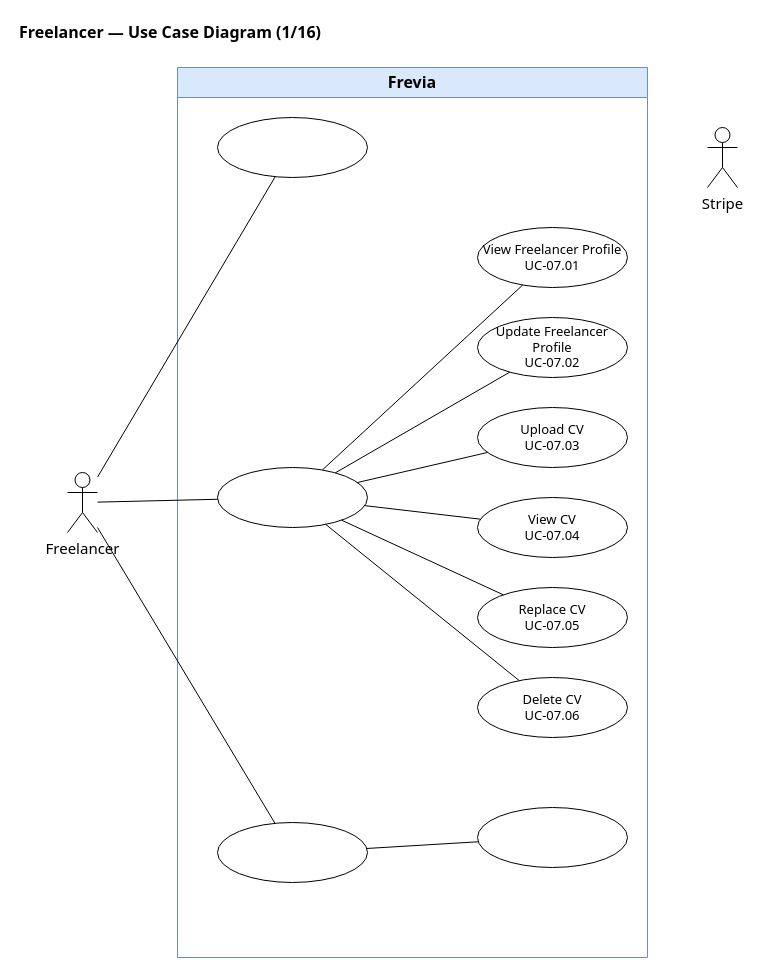
The diagram is 760 pixels wide and 975 high, and some of its shapes have lost their labels. Here are the shapes that lost their labels. From the top down, the centre of each, then its label:
At pixel 292 147: "Logout UC-03".
At pixel 292 497: "Freelancer Profile Management UC-07".
At pixel 292 852: "Freelancer Skill Management UC-08".
At pixel 552 837: "View Freelancer Skill List UC-08.01".
